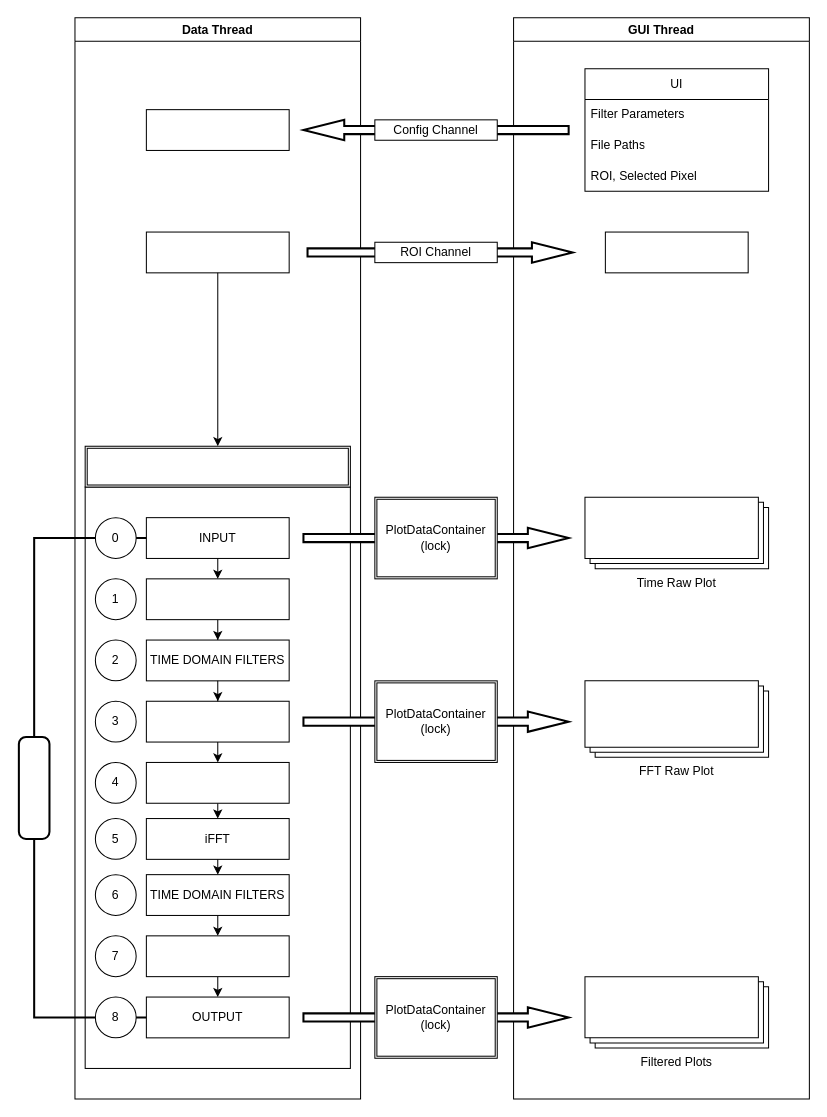
This 827x1117 diagram has some shape labels left out. Here are the shapes that lost their labels. From the top down, the centre of each, then its label:
At pixel 217 129: "Command Handler".
At pixel 217 252: "IO".
At pixel 676 252: "ROIs".
At pixel 217 466: "ScannedImageFilterData".
At pixel 217 599: "DOWNSCALING".
At pixel 217 721: "FFT".
At pixel 33 787: "Filtering Pipeline".
At pixel 217 782: "FREQUENCY DOMAIN FILTERS".
At pixel 217 956: "DECONVOLUTION".
